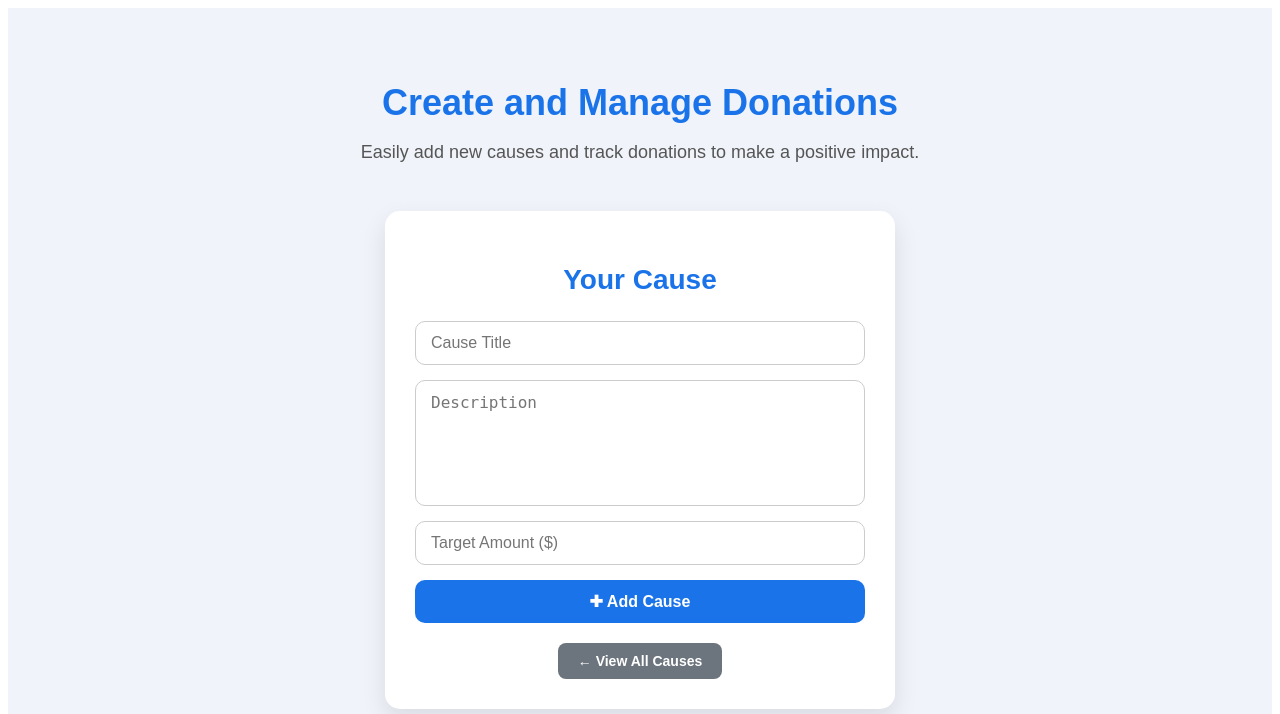
Scenario: CreateCause Component › shows error message when API fails
Type "Fail Cause" into the field with placeholder "Cause Title" at (640, 343), box [415, 321, 865, 365]
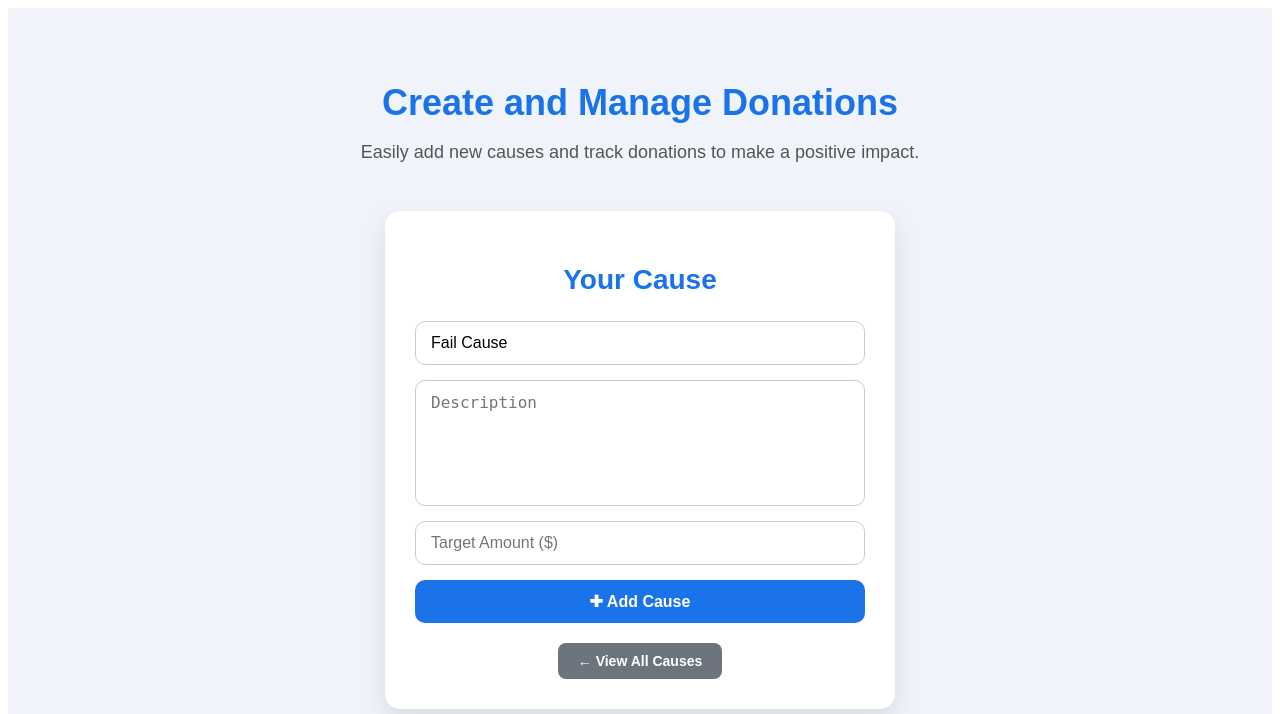
Type "This will fail" into the text box with placeholder "Description" at (640, 443), box [415, 380, 865, 506]
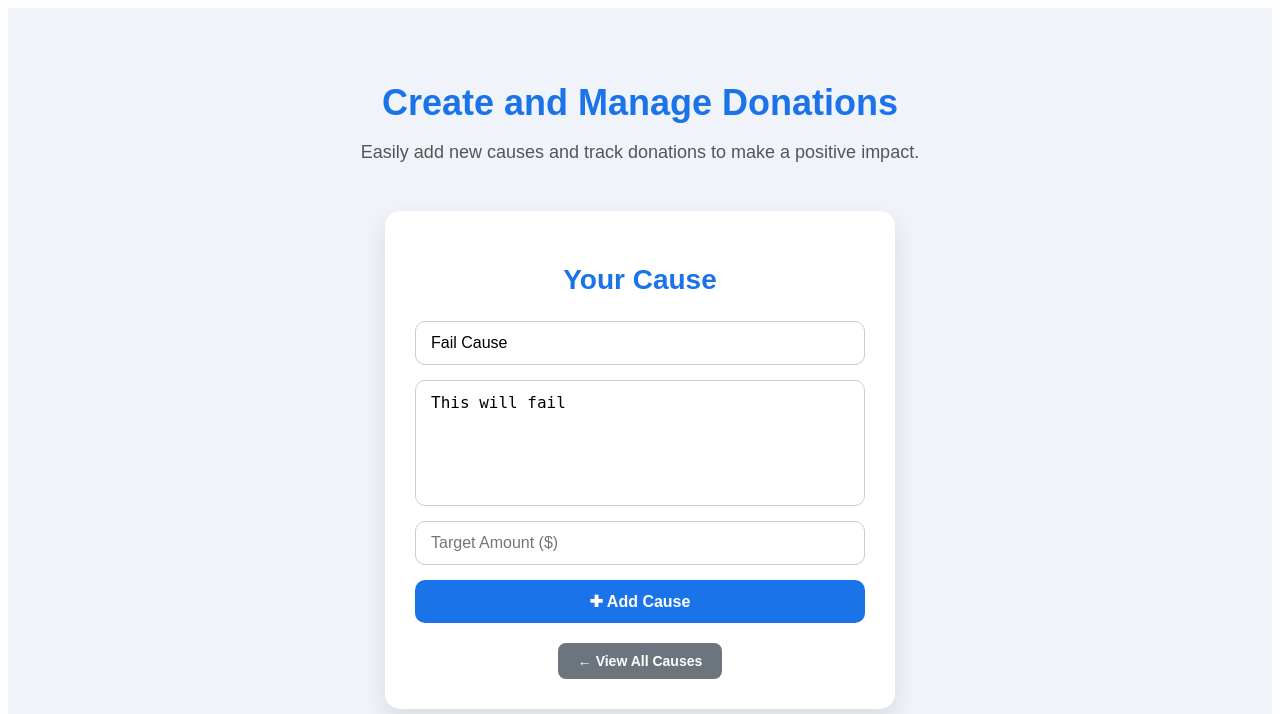
Type "50" into the number field with placeholder "Target Amount ($)" at (640, 543), box [415, 521, 865, 565]
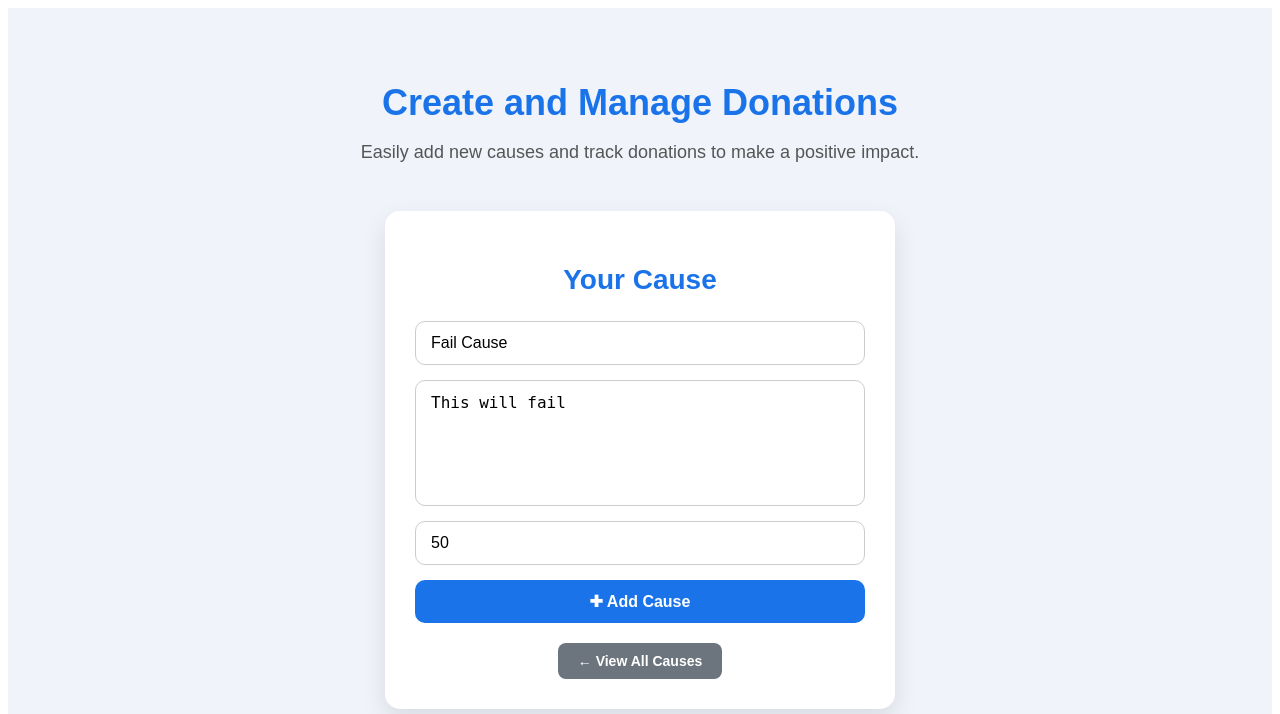
Click the button "✚ Add Cause" at (640, 602), box [415, 580, 865, 623]
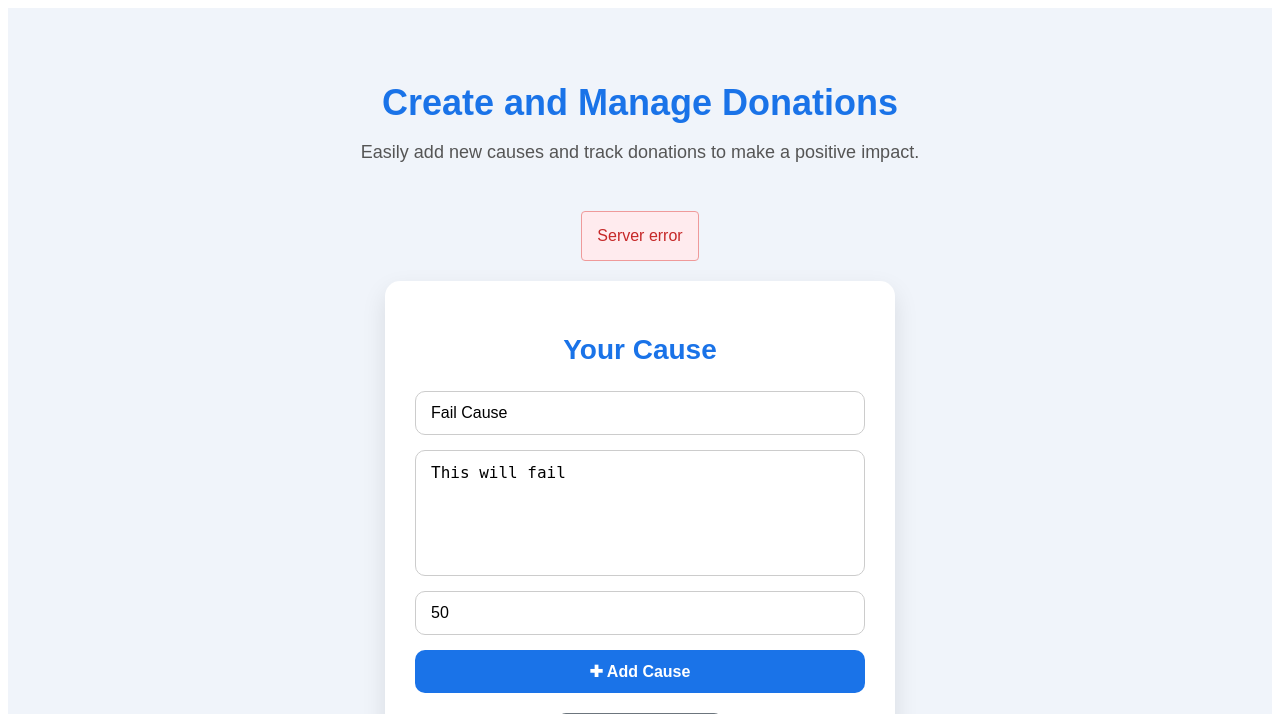
Now the text "Server error" is shown, box [581, 211, 699, 261]
